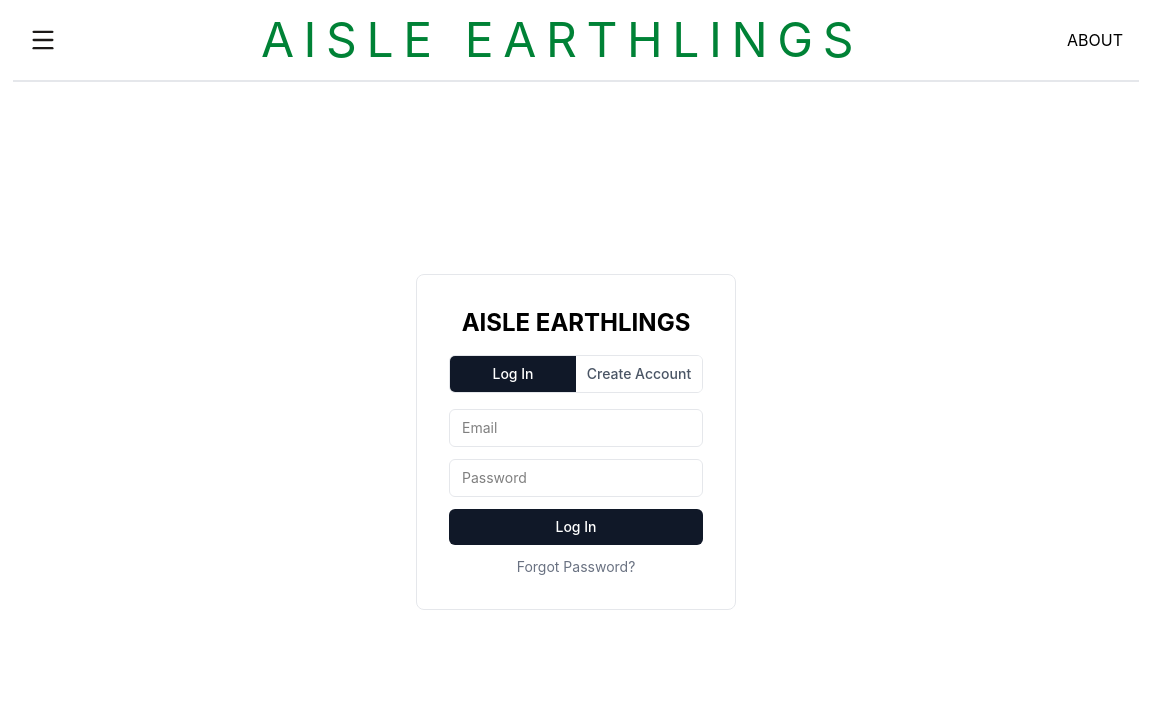
Scenario: Authentication › shows error when signing up with an already registered email
Click the button with test id "tab-signup" at (639, 374), box [576, 356, 702, 392]
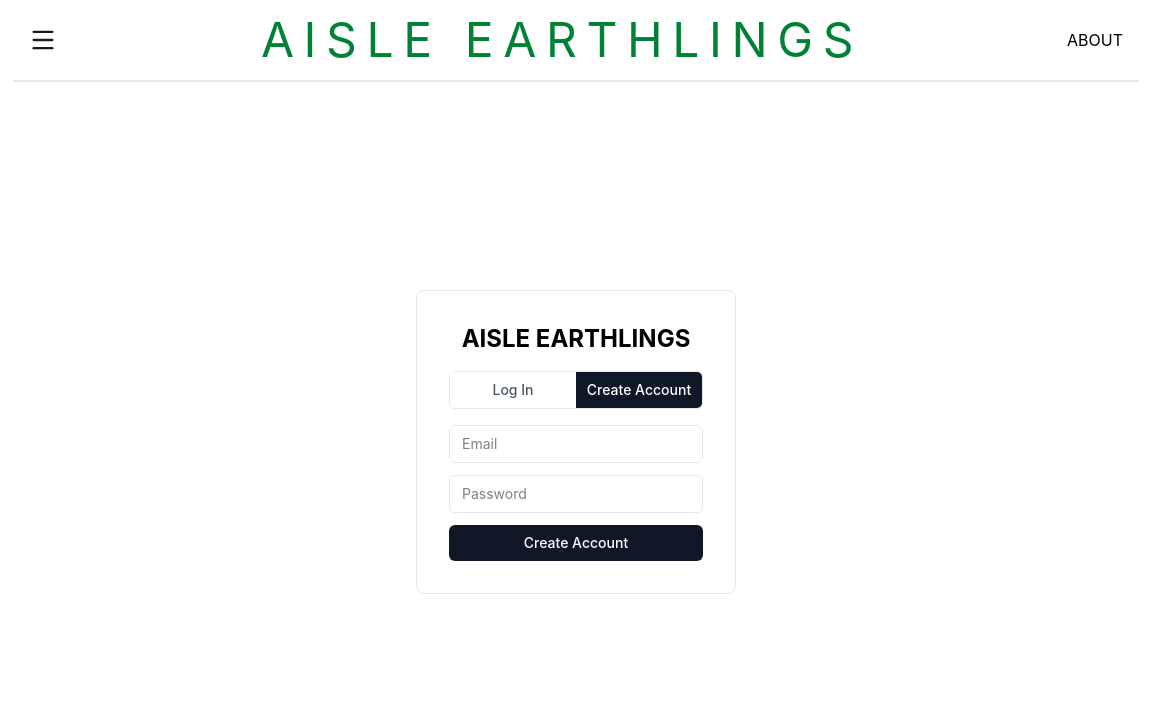
Type "test@t.com" into the field with test id "email-input" at (576, 444), box [449, 425, 703, 463]
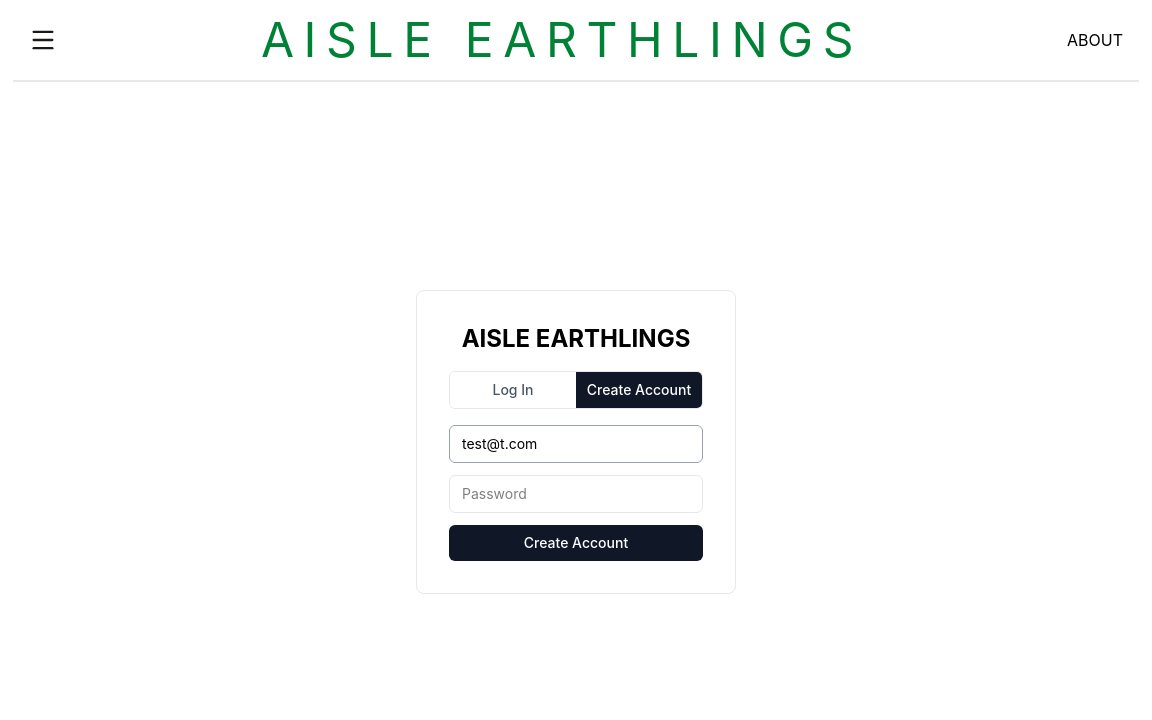
Type "password" into the password field with test id "password-input" at (576, 494), box [449, 475, 703, 513]
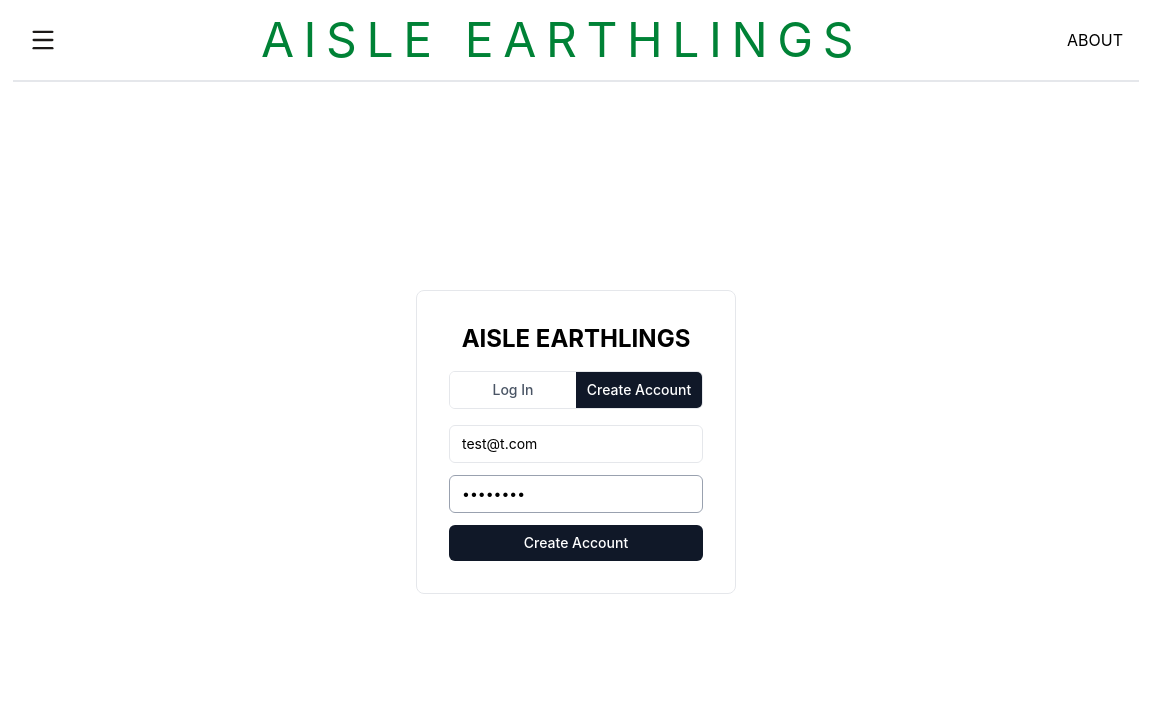
Click the button with test id "submit-btn" at (576, 543), box [449, 525, 703, 561]
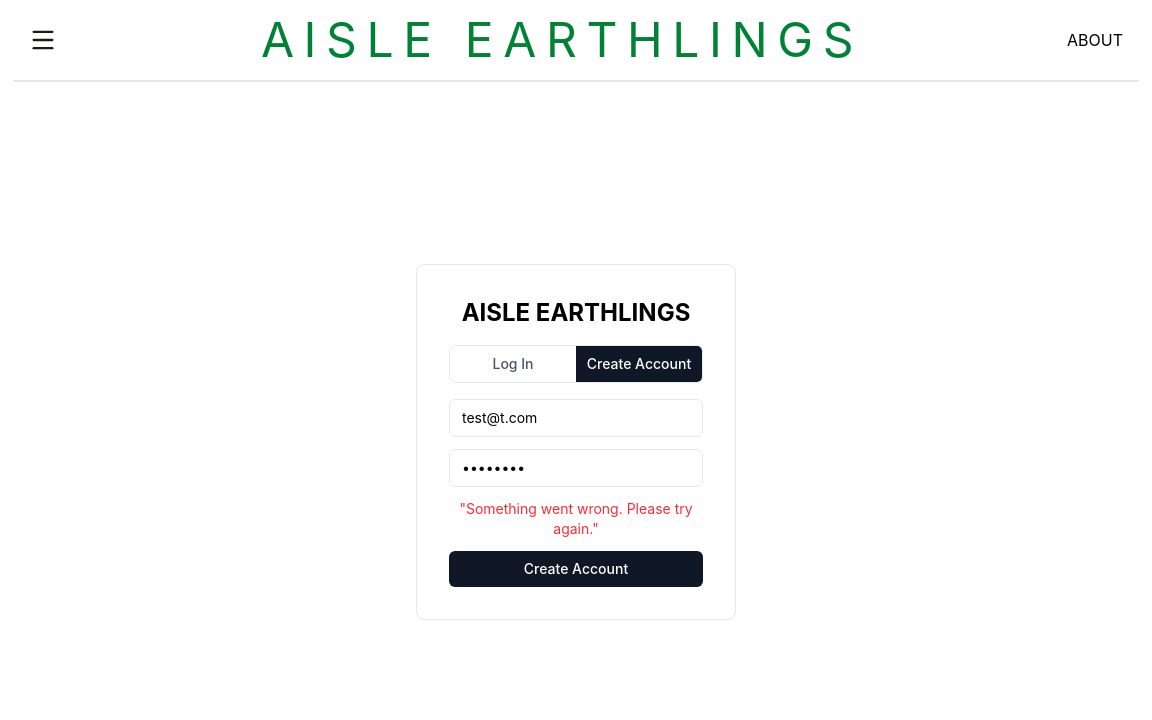
Result: the text "\"Something went wrong. Please try again.\"" is shown at [449, 499, 703, 539]
